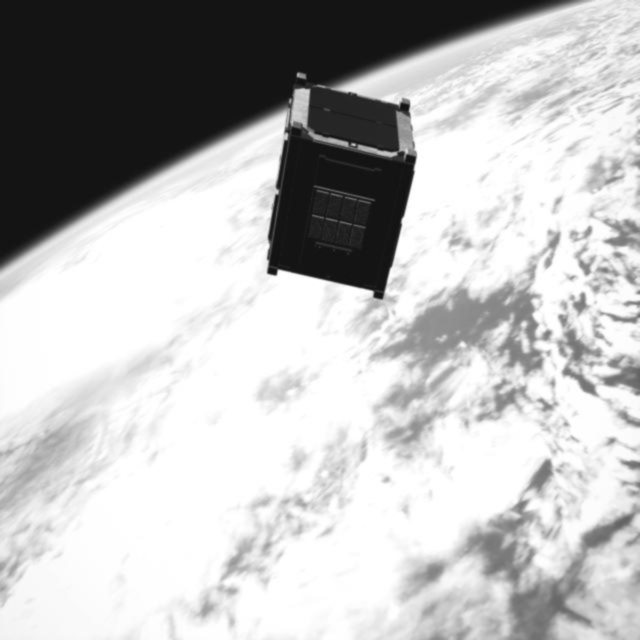satellite: (266, 67, 423, 305)
